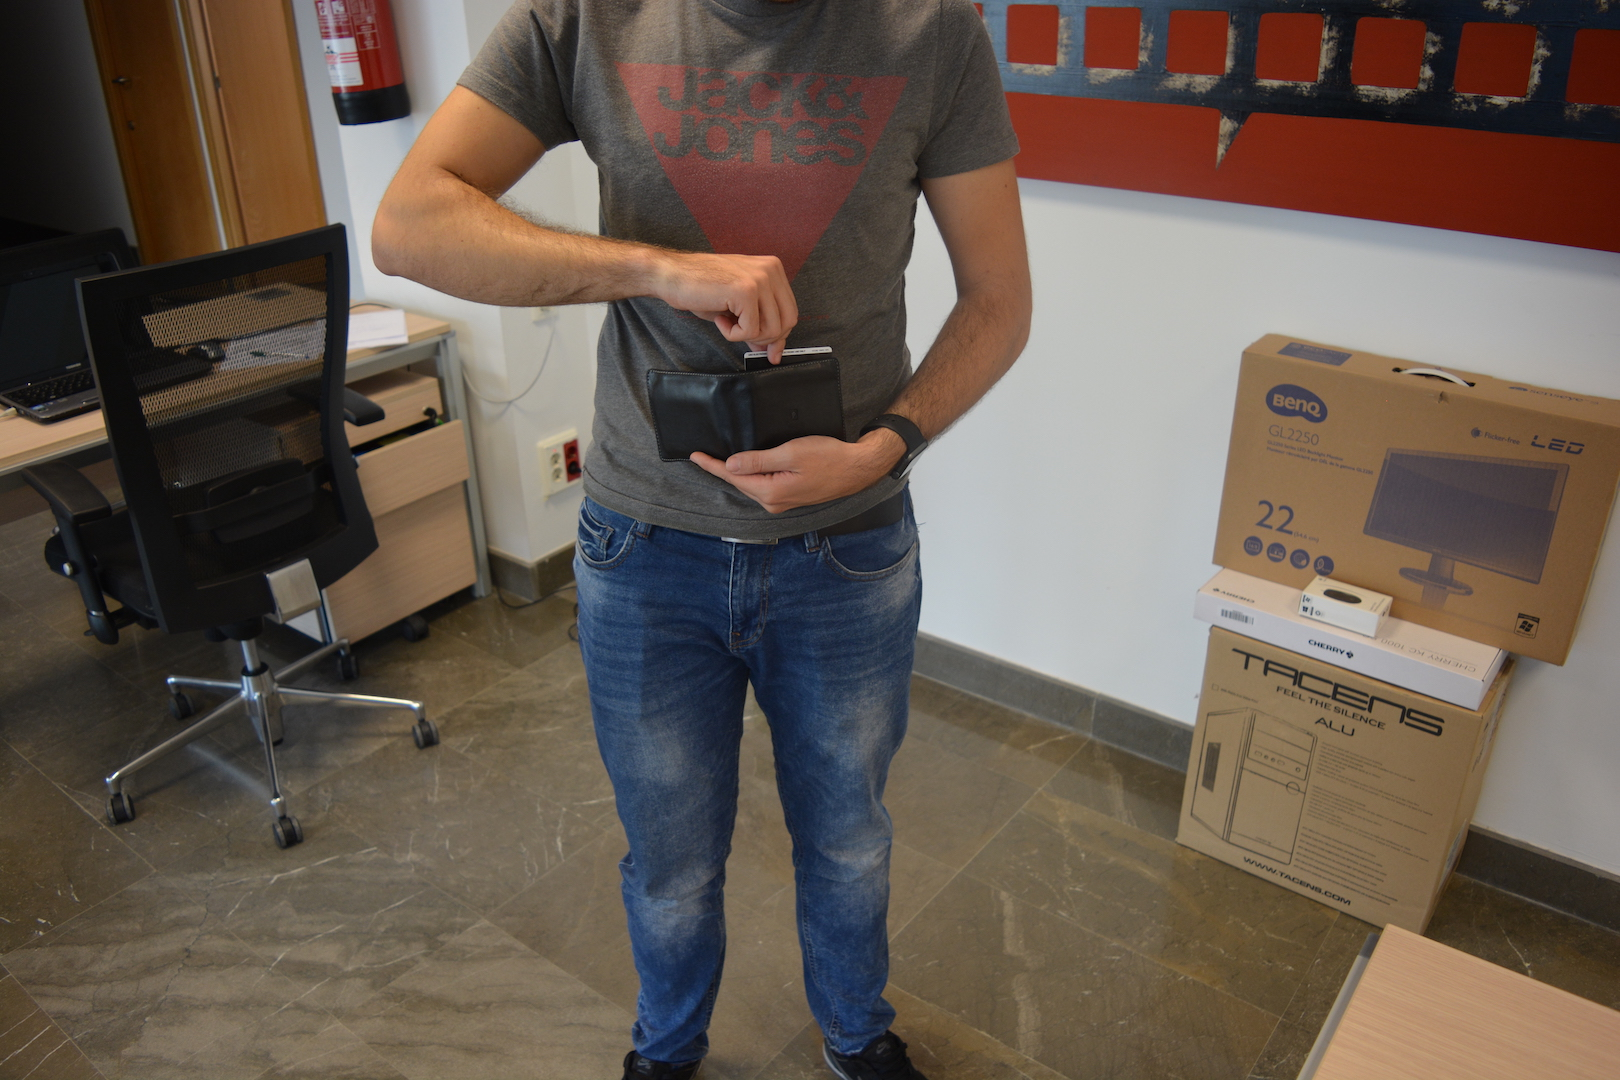monedero: (647, 357, 849, 463)
